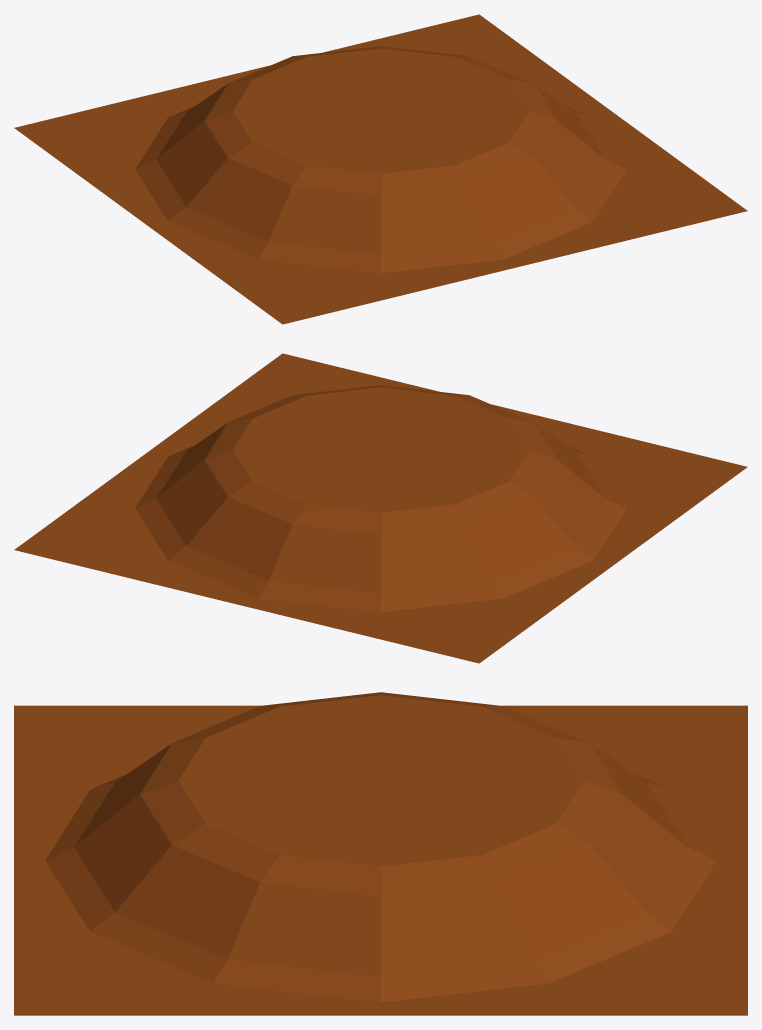
The model's file is Proto_Dirt_Mound_w_Plane_01.fbx.
3 views of the same model, one above another, from view 1: azimuth 30°, elevation 25°; view 2: azimuth 150°, elevation 25°; view 3: azimuth 270°, elevation 25° (orthographic). The views are drawn at different scales.
Parts seen in each view (by area): view 1: Proto_Dirt_Mound_w_Plane_01; view 2: Proto_Dirt_Mound_w_Plane_01; view 3: Proto_Dirt_Mound_w_Plane_01.
Boxes of the visible parts, x1=… form: Proto_Dirt_Mound_w_Plane_01: x1=14, y1=14, x2=747, y2=324; Proto_Dirt_Mound_w_Plane_01: x1=14, y1=353, x2=747, y2=663; Proto_Dirt_Mound_w_Plane_01: x1=14, y1=692, x2=747, y2=1015.
Bounding box in the file's own units: 0.5 × 0.06 × 0.5.
